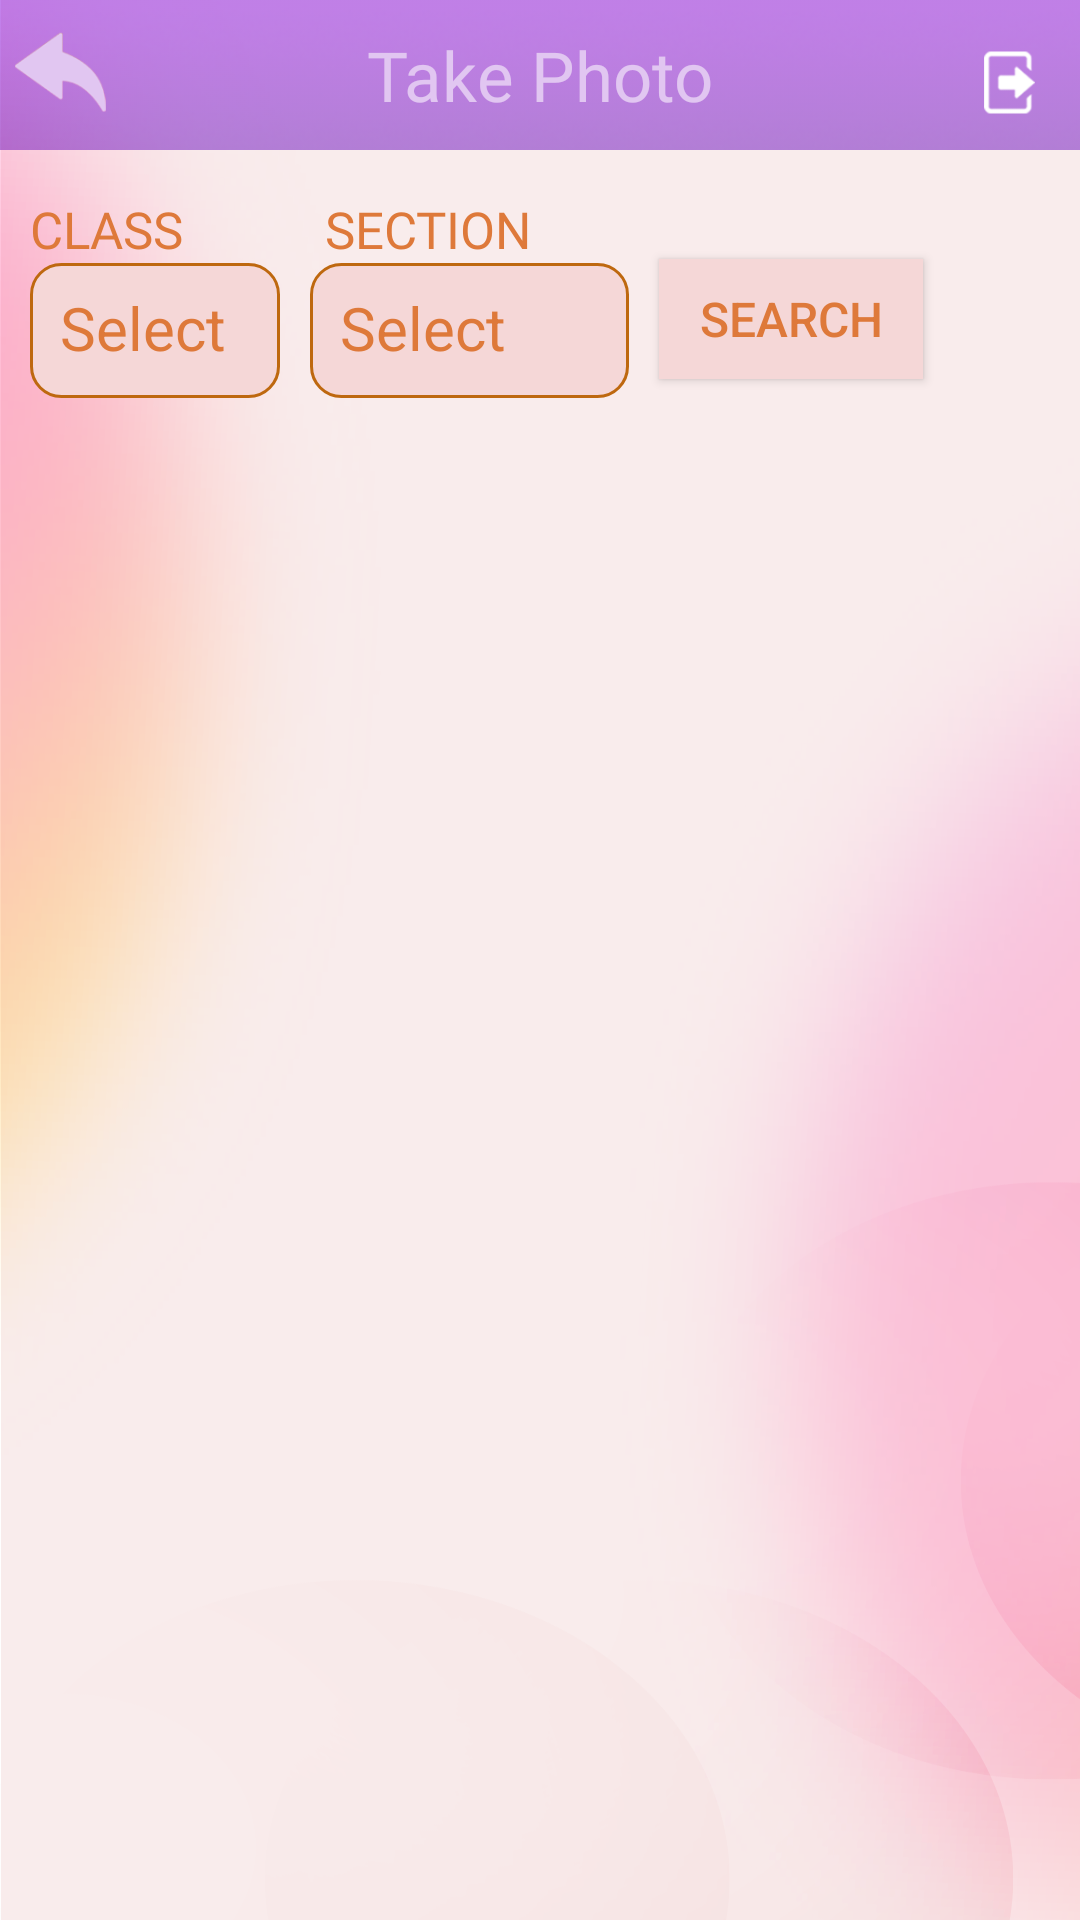

Icons on this 1080px x 1920px Android screen, each with the point to tap as (x=x, y=y):
undo: (x=60, y=84)
